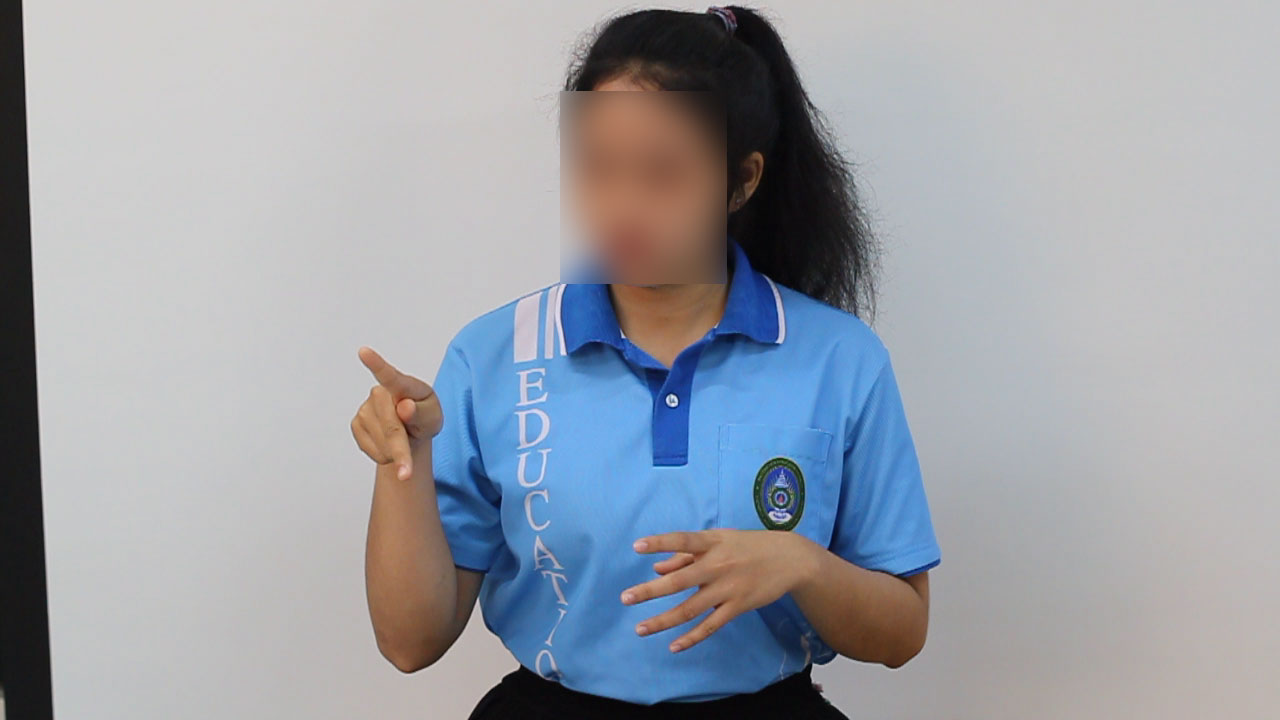por: (340, 329, 455, 491)
